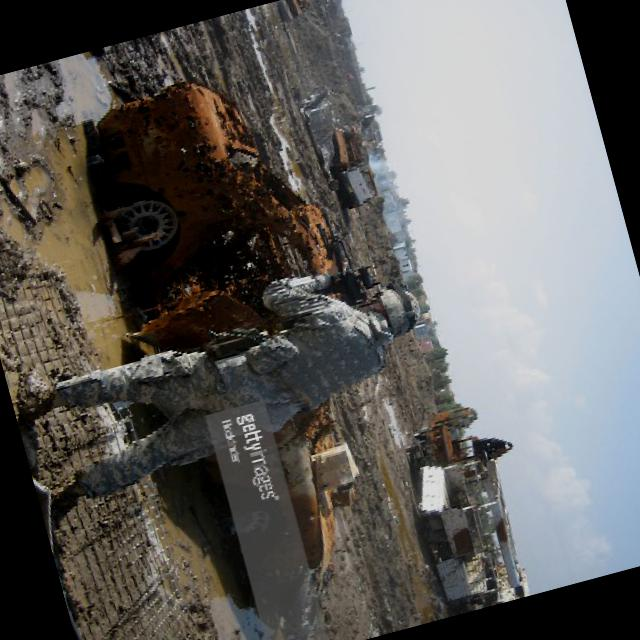long weapon: (299, 188, 388, 316)
